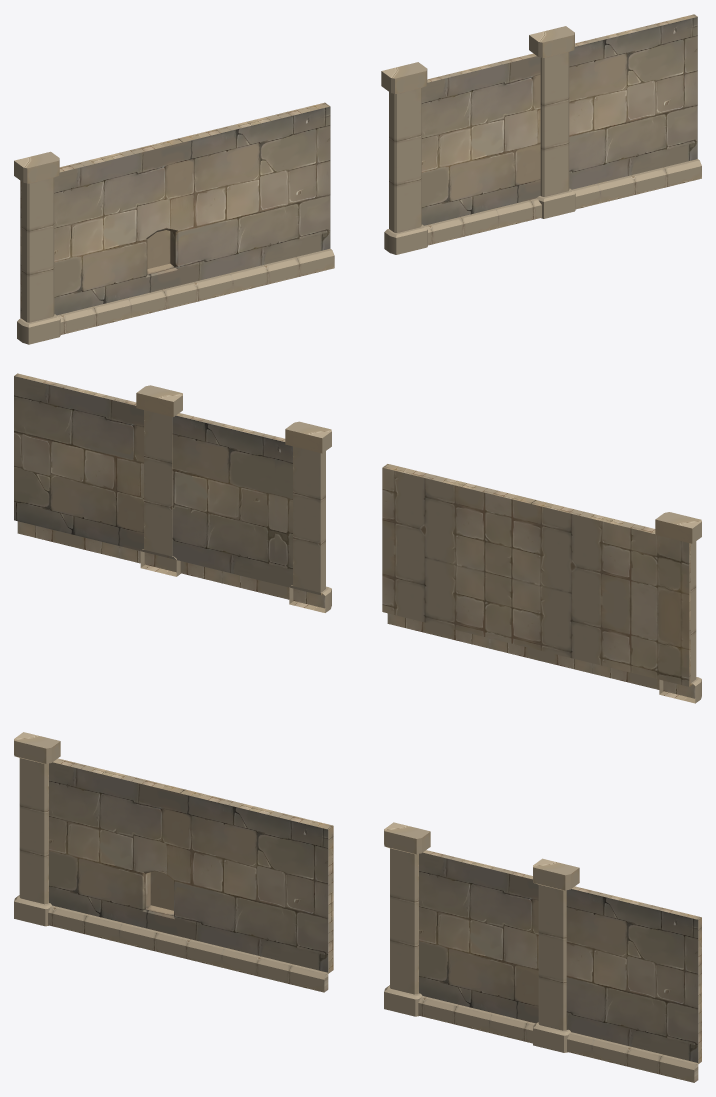
File: Tembok.fbx
3 views of the same model, one above another, from view 1: azimuth 30°, elevation 25°; view 2: azimuth 150°, elevation 25°; view 3: azimuth 330°, elevation 25° (orthographic).
Visible parts, largest first — view 1: Tembok_Biasa.001, Tembok_Lilin; view 2: Tembok_Biasa.001, Tembok_Lilin; view 3: Tembok_Biasa.001, Tembok_Lilin.
Boxes of the visible parts, left/top/right/bottom form: Tembok_Biasa.001: left=381, top=14, right=701, bottom=254; Tembok_Lilin: left=14, top=102, right=334, bottom=344; Tembok_Biasa.001: left=14, top=373, right=331, bottom=612; Tembok_Lilin: left=382, top=464, right=701, bottom=703; Tembok_Biasa.001: left=384, top=822, right=701, bottom=1082; Tembok_Lilin: left=14, top=732, right=333, bottom=992.
Size of the model in its own units: 2230 by 553 by 69.17.
Materials: 1 (1 with a texture image).
